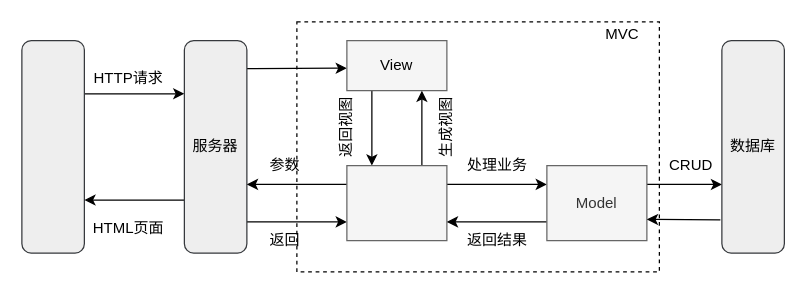
This 806x294 diagram has some shape labels left out. Here are the shapes that lost their labels. From the top down, the box of each, then its label:
(21, 39, 84, 253): 浏览器
(346, 164, 447, 241): Controller
